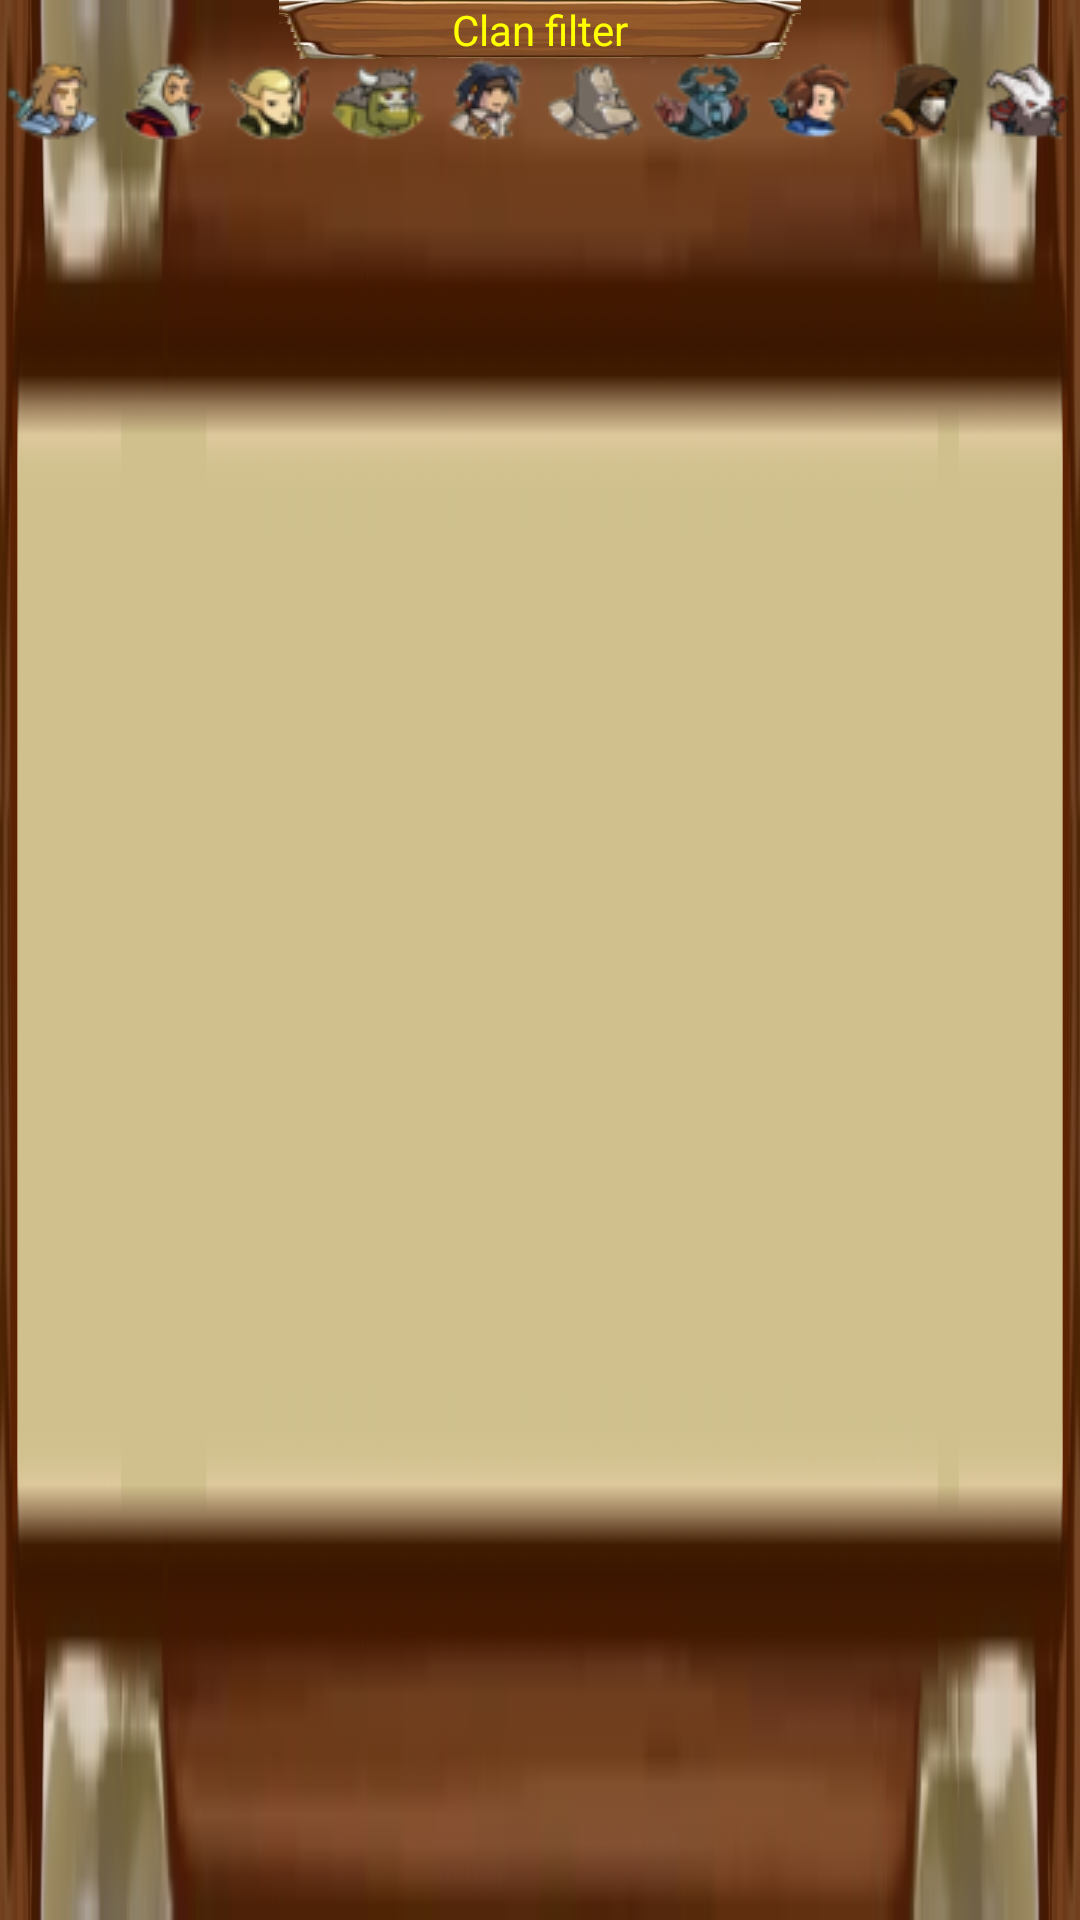

Where to tap for icons on this 1080w x 1920h app screen, as (x,y):
bandit leader: (918,100)
commander of the kingdom: (54,100)
orc chieftain: (382,88)
prince of the elves: (270,84)
